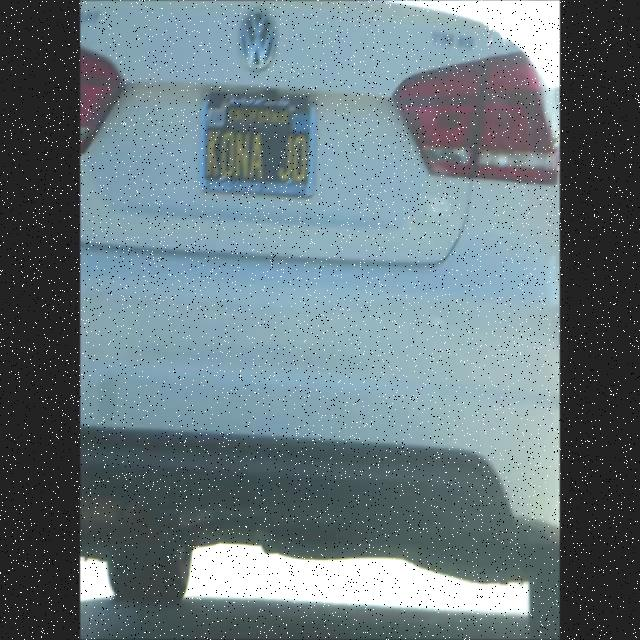licenseplate: (202, 85, 314, 194)
